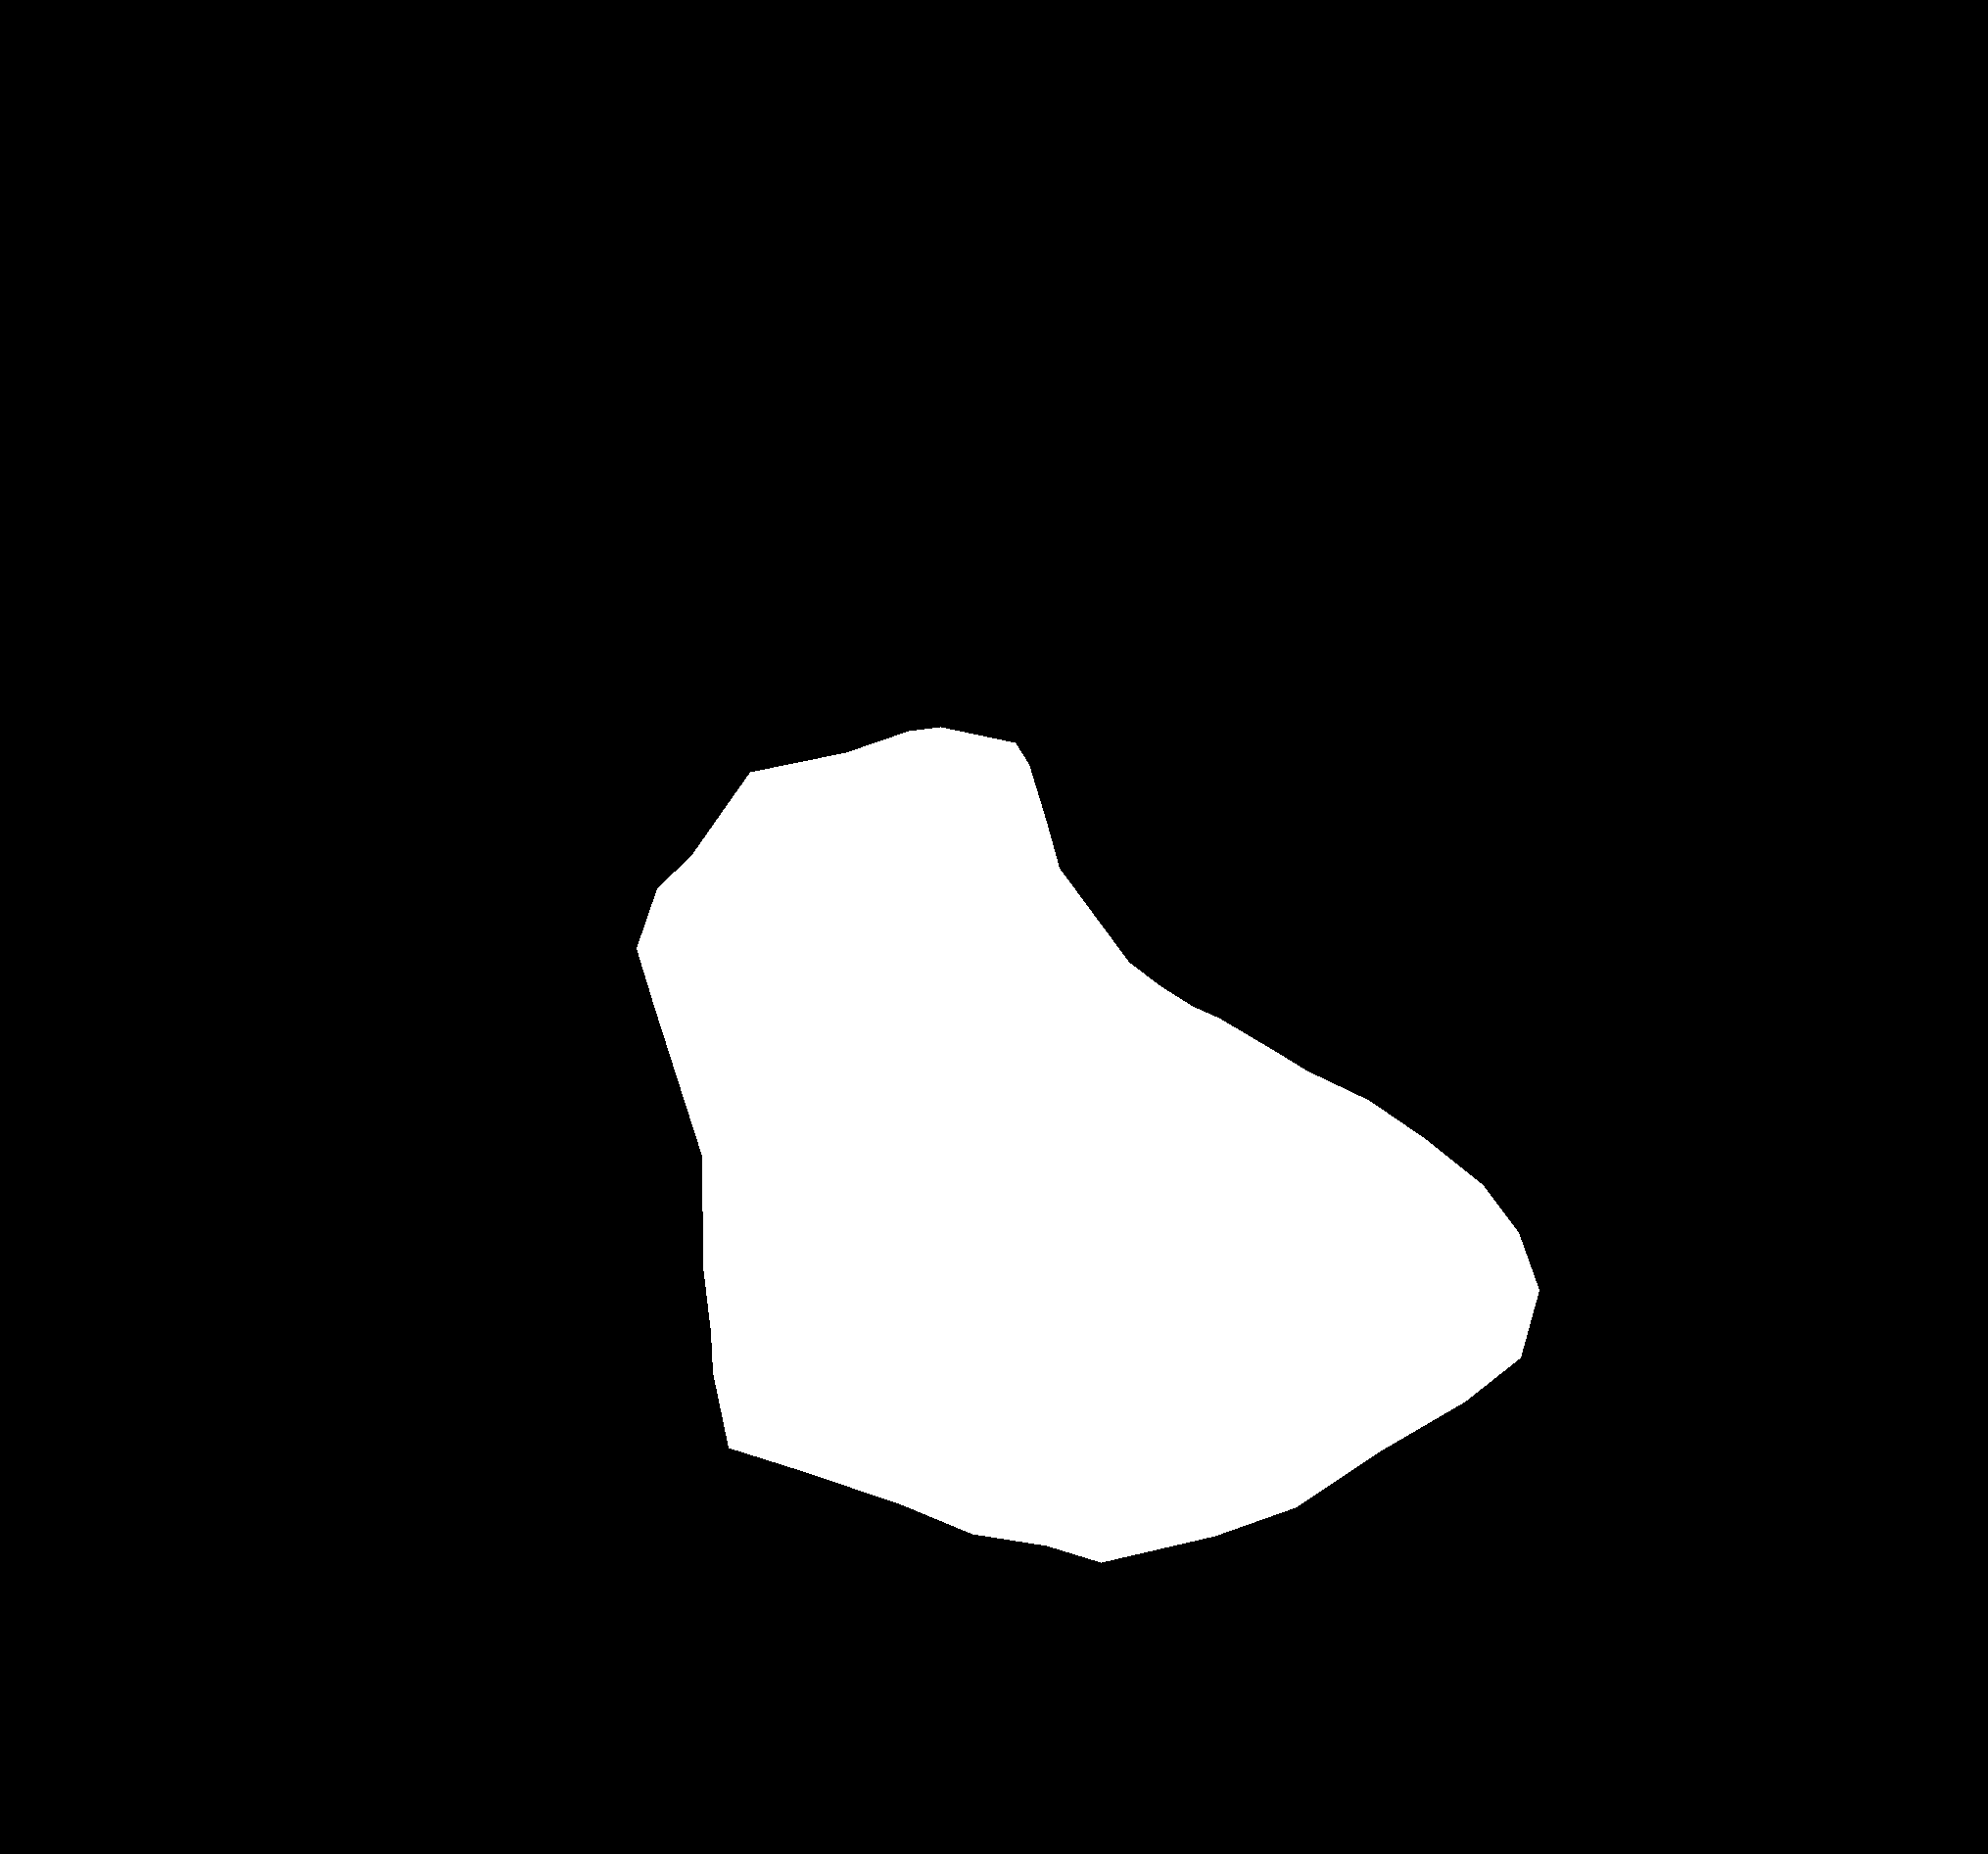heart: (636, 727, 1538, 1563)
left_lung: (233, 200, 791, 1584)
right_lung: (1004, 141, 1856, 1462)
